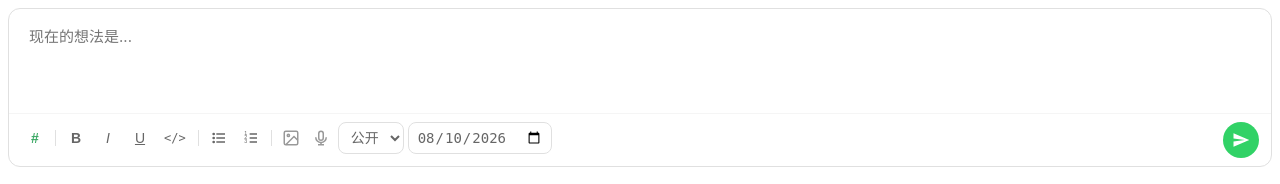
MemoComposer mobile toolbar › keeps the direct formatting toolbar on desktop
Expected: the button titled "加粗" is shown, [62, 126, 90, 150]
Expected: the button titled "斜体" is shown, [94, 126, 122, 150]
Type "桌面行为" into the text box with placeholder "现在的想法是...". click: (640, 59)
box: [9, 9, 1271, 109]
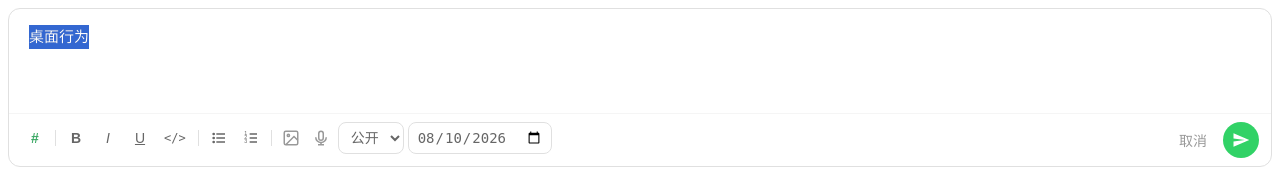
Click the button titled "加粗". click: click(76, 138)
box: [62, 126, 90, 150]
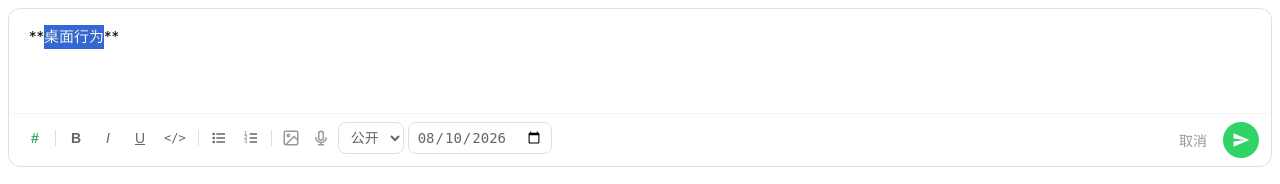
Now the text box with placeholder "现在的想法是..." holds "**桌面行为**", box [9, 9, 1271, 109]
